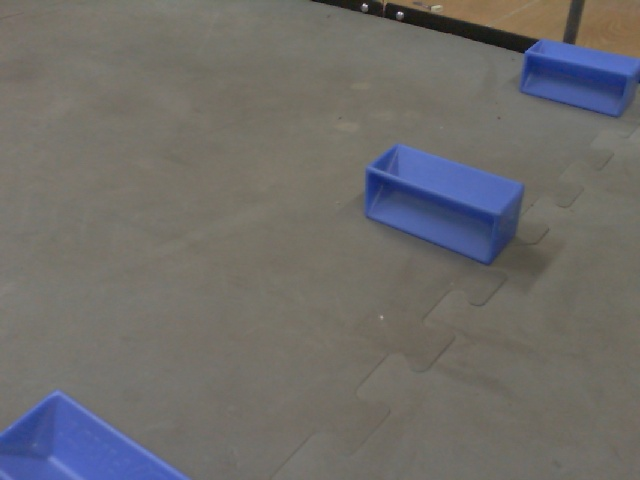BlueSample: (361, 142, 529, 262), (1, 387, 201, 480), (515, 35, 640, 119)
